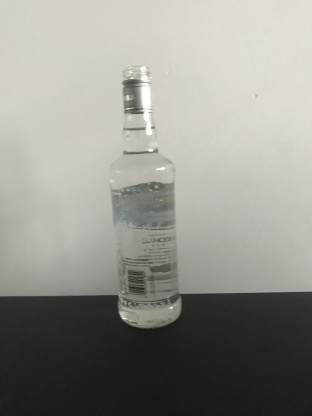nakretka: (120, 64, 154, 114)
